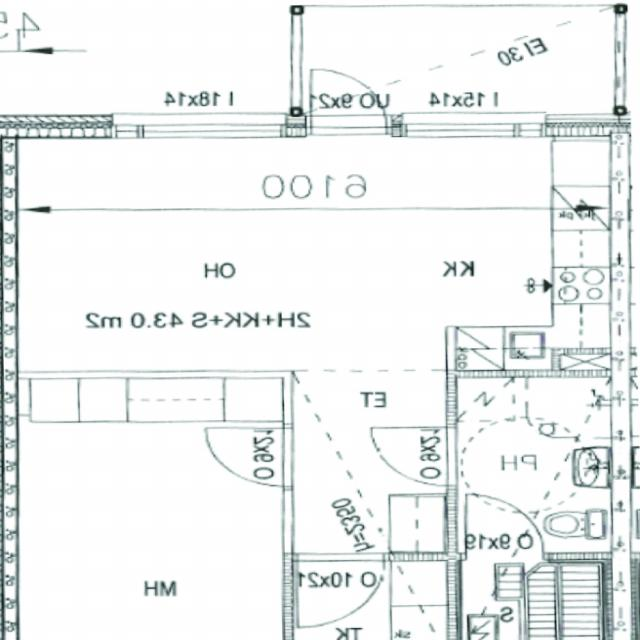door: (312, 53, 388, 138), (300, 552, 386, 624), (369, 426, 456, 484), (468, 494, 544, 559), (210, 429, 292, 484)
